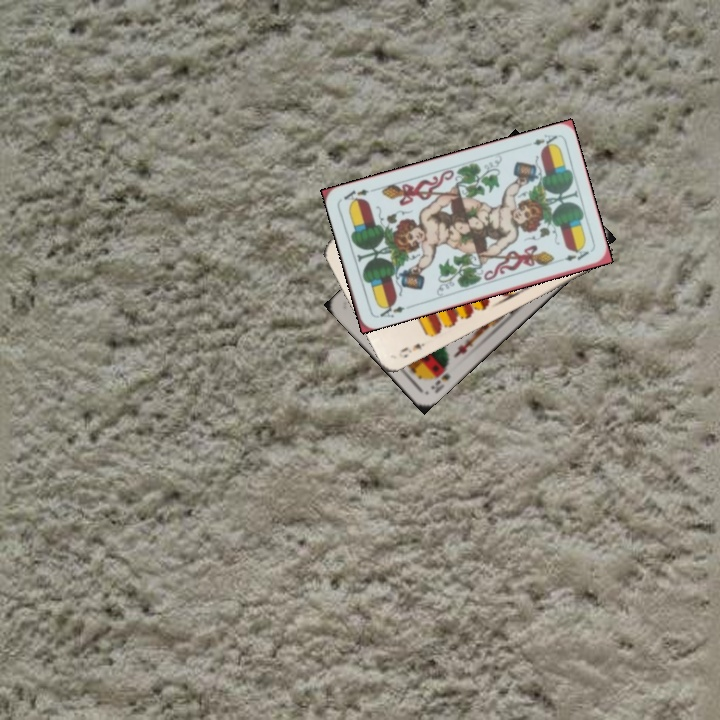E9: (396, 339, 427, 355)
EA: (373, 298, 407, 320), (529, 130, 560, 151)
SK: (426, 369, 453, 396)
